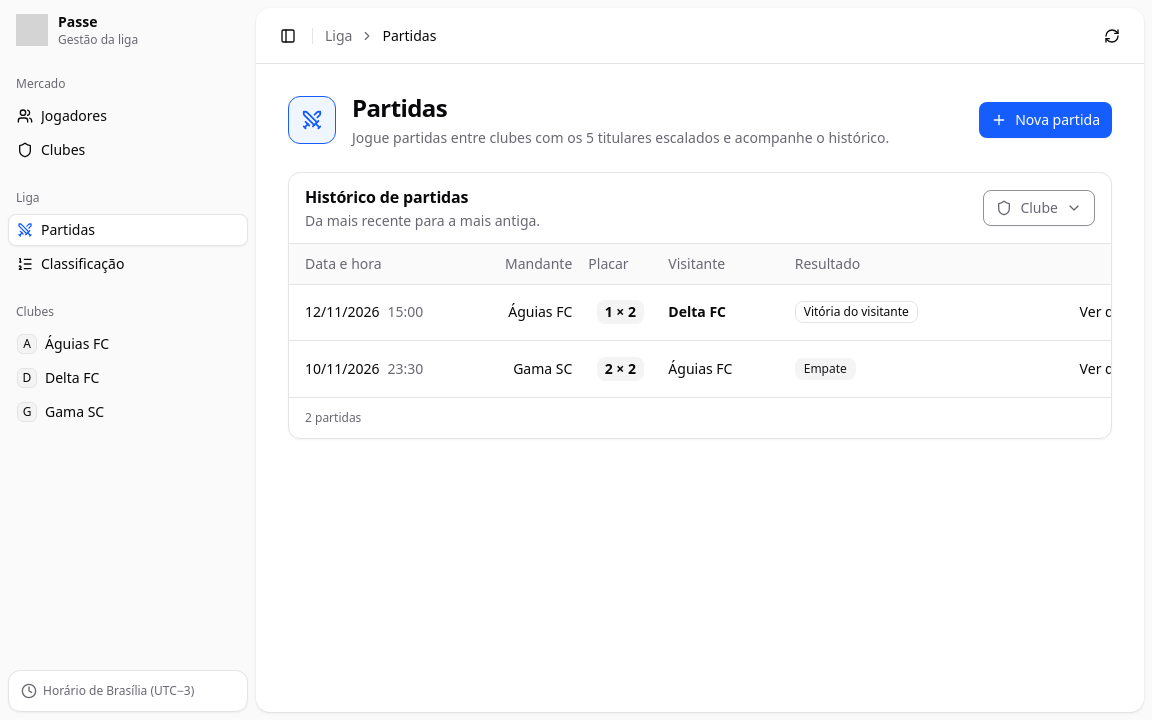
Test: Partidas (F13, F14) › jogar: clique duplo cria uma só partida e abre o placar e os 6 duelos da API
The width and height of the screenshot is (1152, 720).
Click the button "Nova partida". click: (1046, 120)
box: [979,102,1112,138]
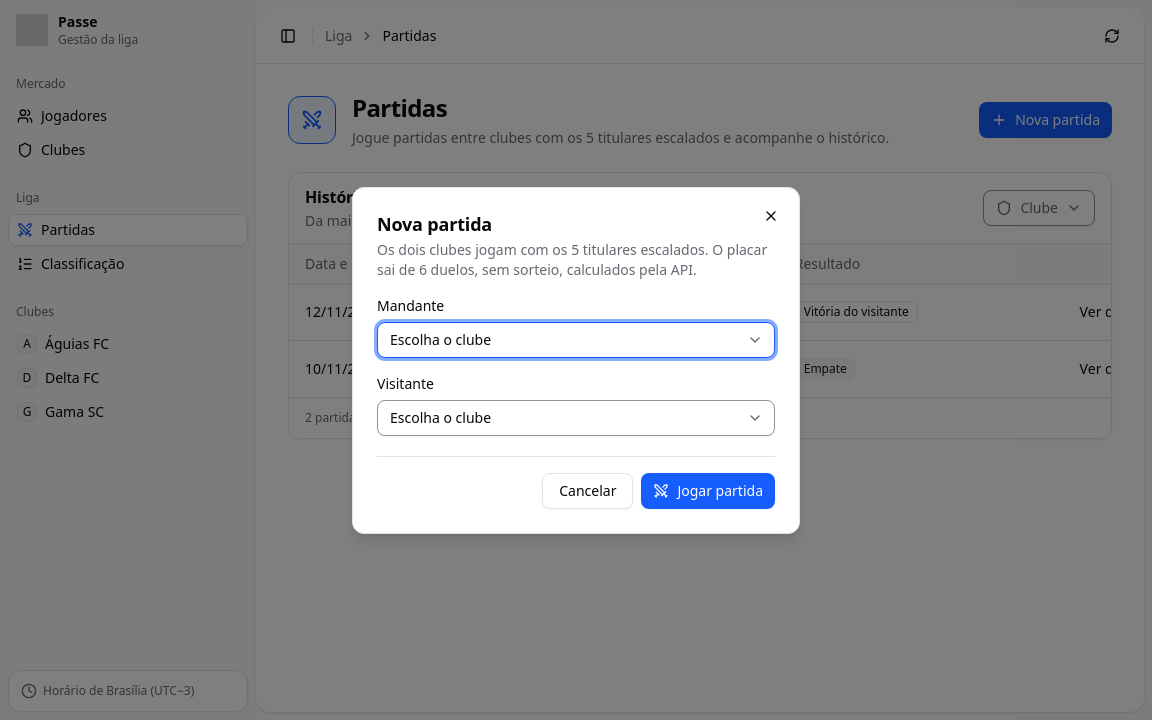
Select "Águias FC (AGU)" in the dropdown labelled "Mandante". click: (576, 340)
box: [377,322,775,358]
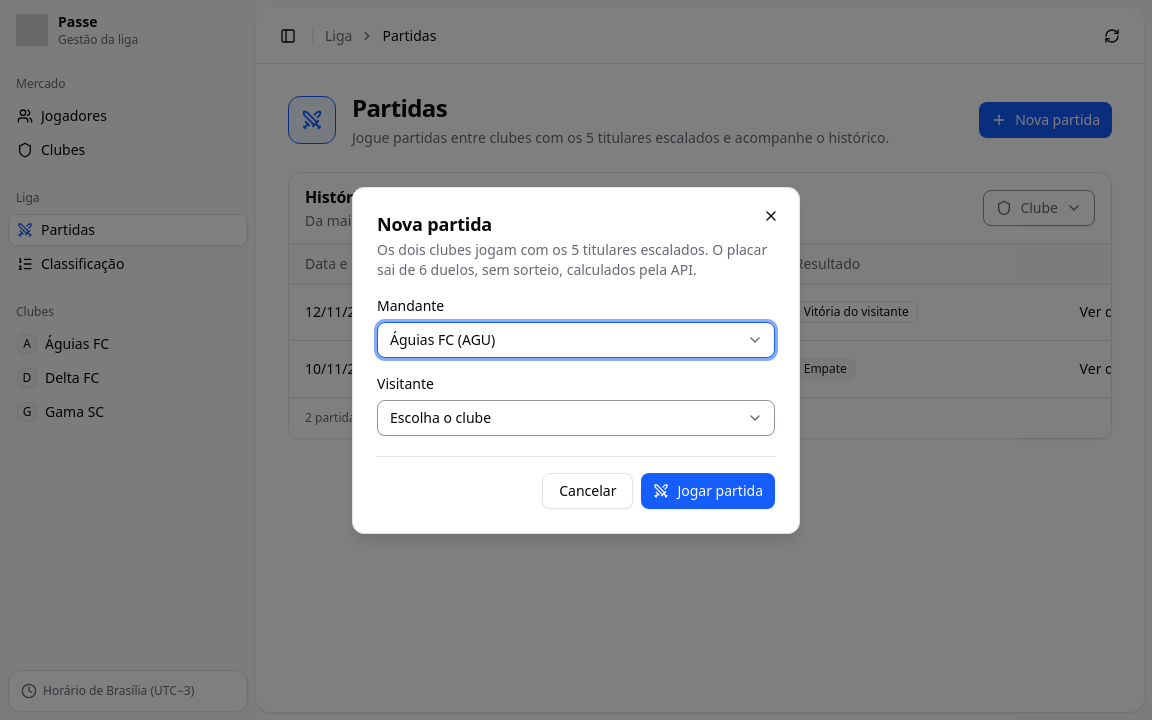
Select "Delta FC (DEL)" in the dropdown labelled "Visitante". click: (576, 418)
box: [377,400,775,436]
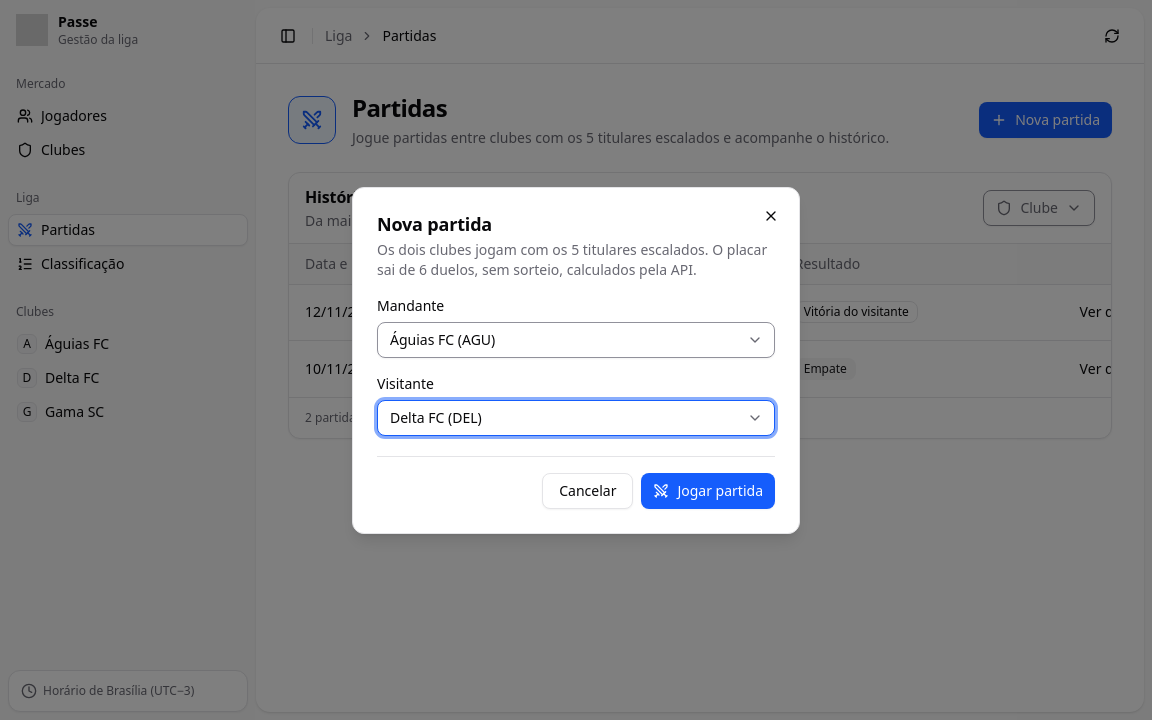
Double-click the button "Jogar partida" at (708, 490), box [641,472,775,508]
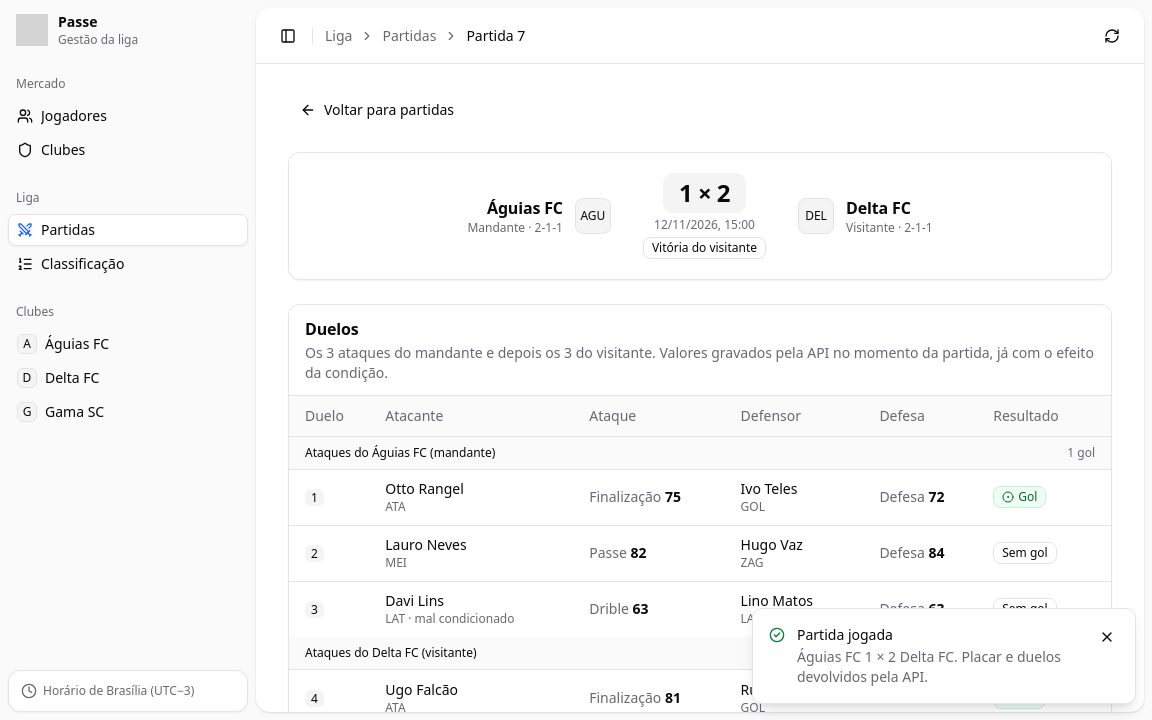
Expected: the text "Partida jogada" is shown, [797,625,893,644]
Expected: the text named "Placar" reads "1 × 2", [663,173,746,213]
Expected: the column heading "Ataques do Águias FC (mandante)" is shown, [289,436,985,469]
